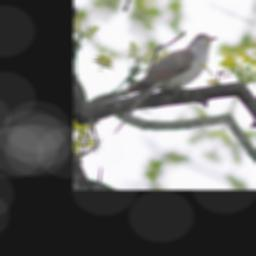Cuckoo: (107, 11, 218, 160)
